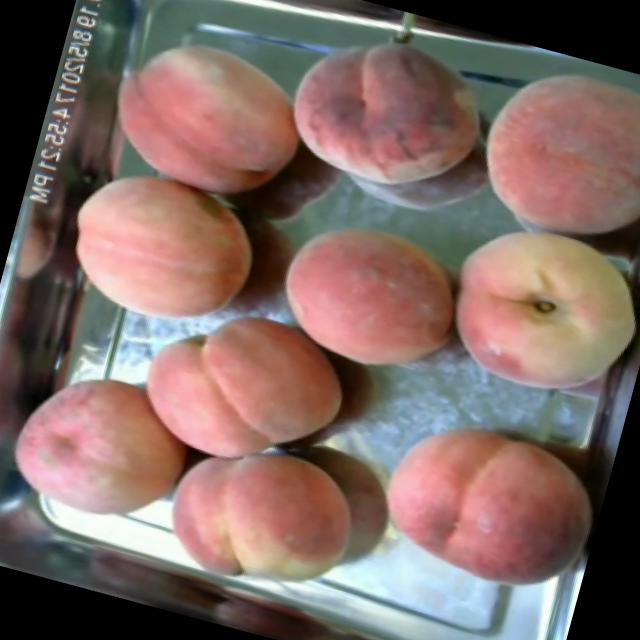Fruit: (261, 0, 518, 228), (358, 391, 616, 616), (114, 285, 370, 500), (138, 407, 382, 623), (415, 204, 640, 426), (256, 192, 490, 400), (90, 15, 324, 216), (42, 156, 276, 352), (449, 37, 640, 267), (0, 346, 211, 553)
